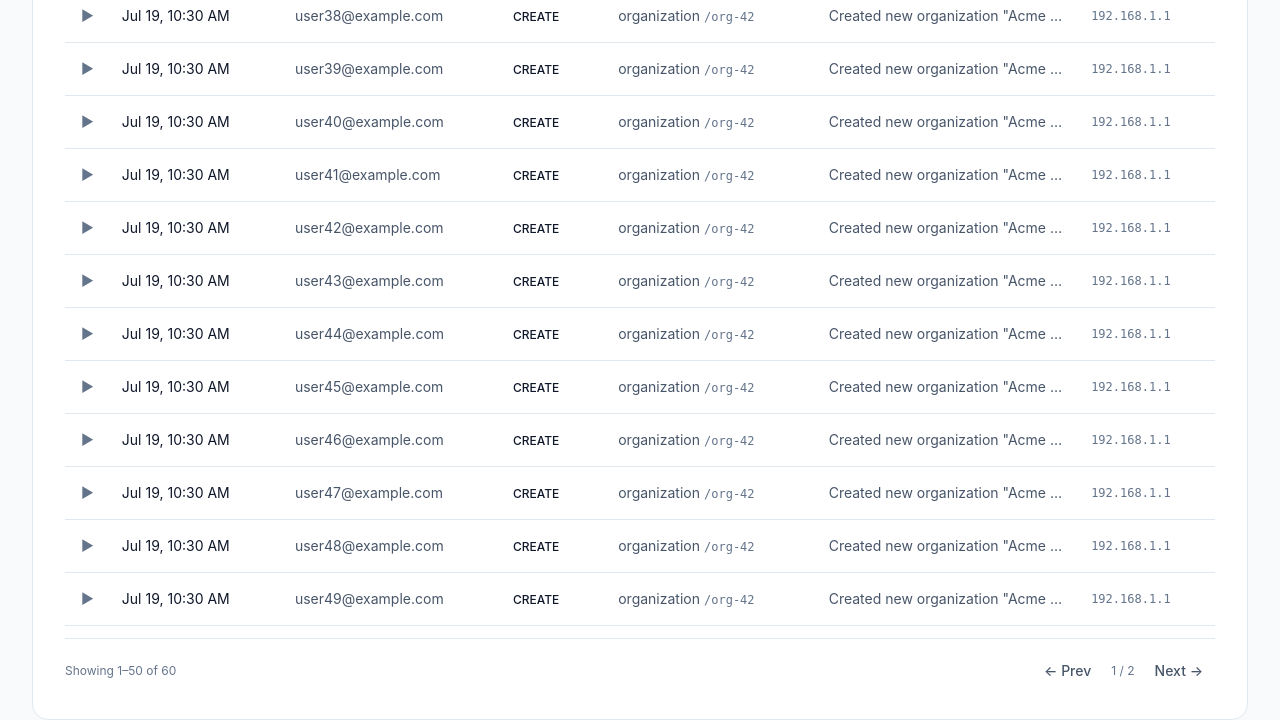
Test: AuditLogViewer › navigates pages with pagination controls
(page scrolled)
Step 1. Click the button with aria-label "Next page" → (1179, 671), box [1143,655,1215,687]
(page scrolled)
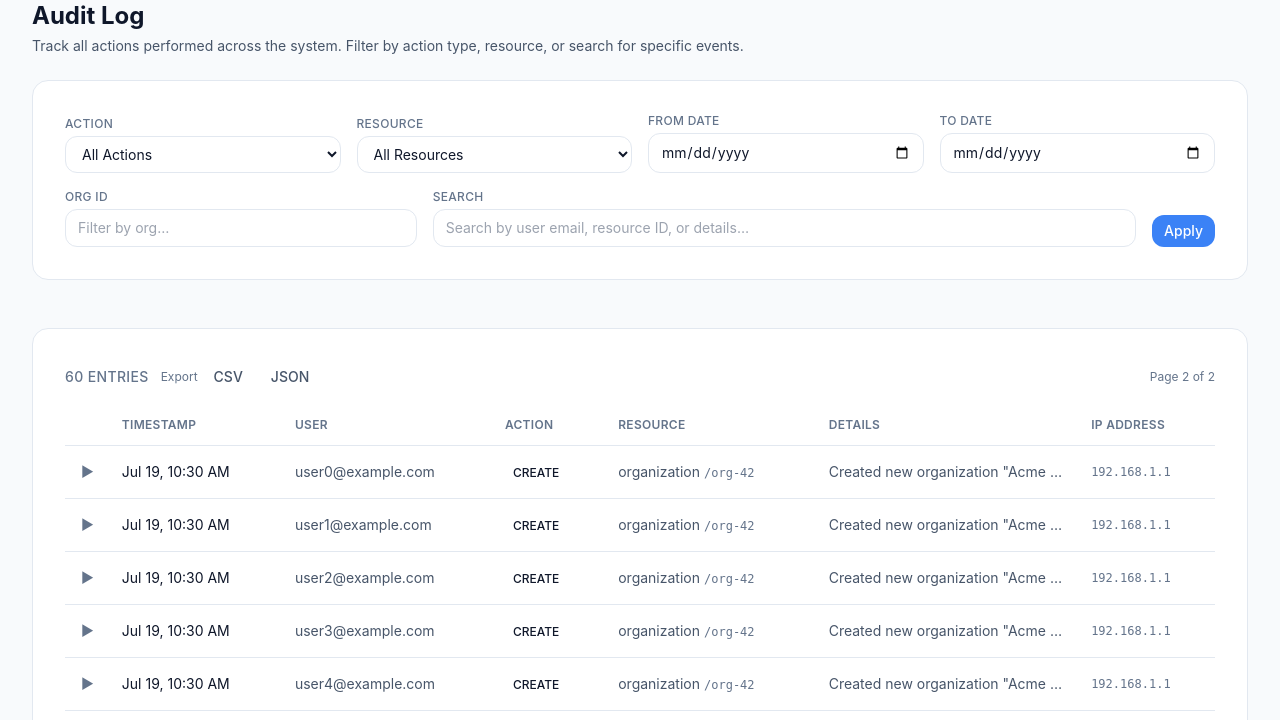
Expected: the text "Page 2 of 2" is shown, [1150,369,1215,385]
